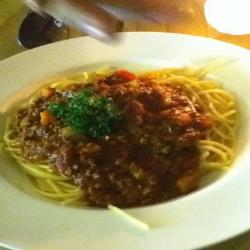bolonese_pasta: (7, 55, 243, 219)
